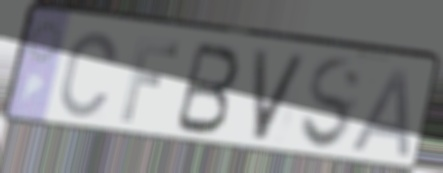A: (347, 66, 413, 161)
B: (171, 39, 242, 138)
C: (56, 29, 121, 122)
F: (117, 36, 183, 125)
S: (298, 55, 365, 155)
V: (250, 46, 311, 144)
